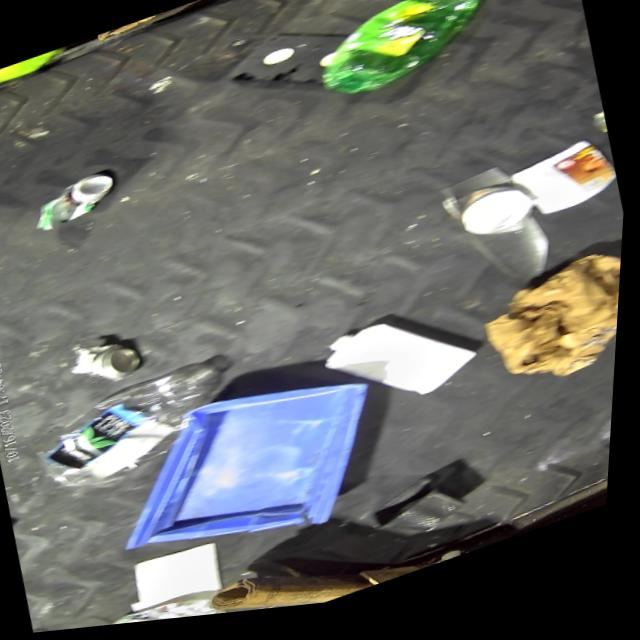can: (69, 321, 162, 398), (35, 169, 120, 230), (591, 441, 617, 508)
milk_jug: (317, 298, 483, 435)
plastic_bottle: (31, 356, 247, 514)
